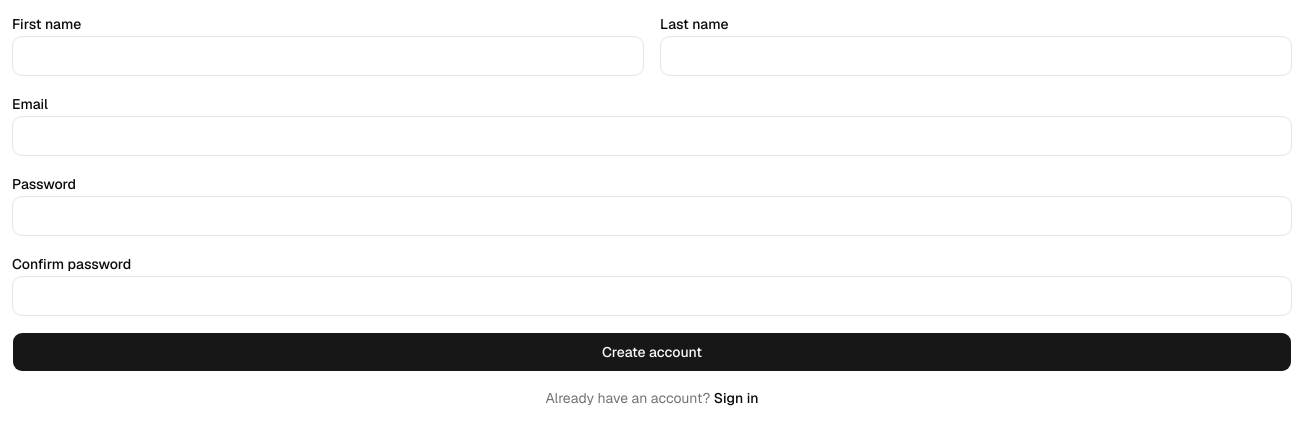
Test: RegisterForm › shows server-side field errors and keeps entered values
Type "Jan" into the field labelled "First name" at (328, 56), box [12,36,644,76]
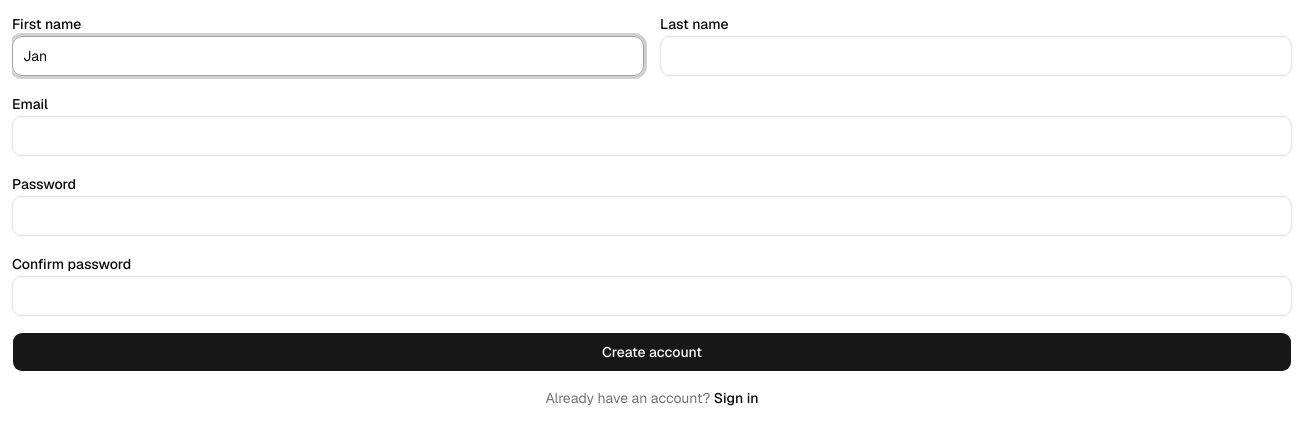
Type "Kowalski" into the field labelled "Last name" at (976, 56), box [660,36,1292,76]
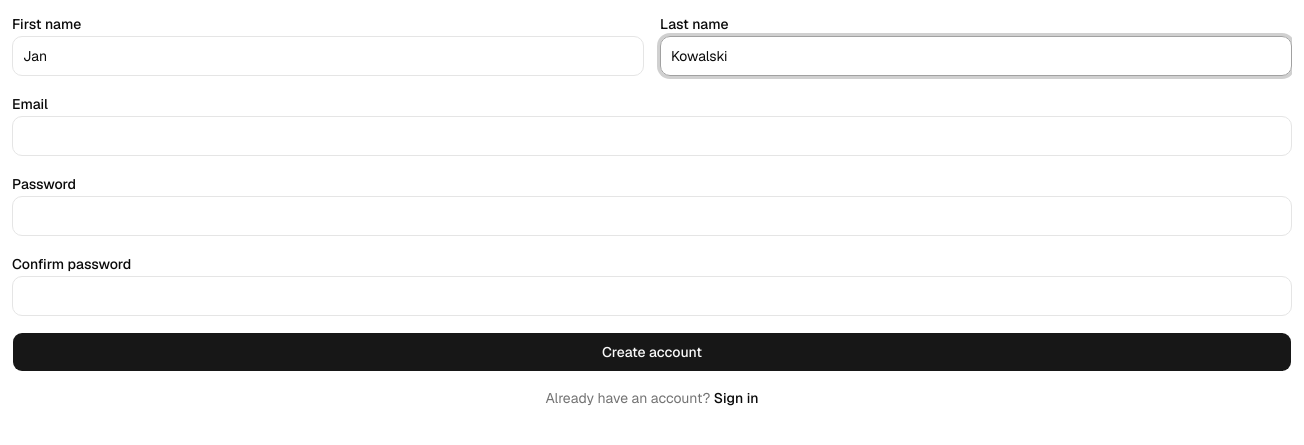
Type "jan@example.com" into the field labelled "Email" at (652, 136), box [12,116,1292,156]
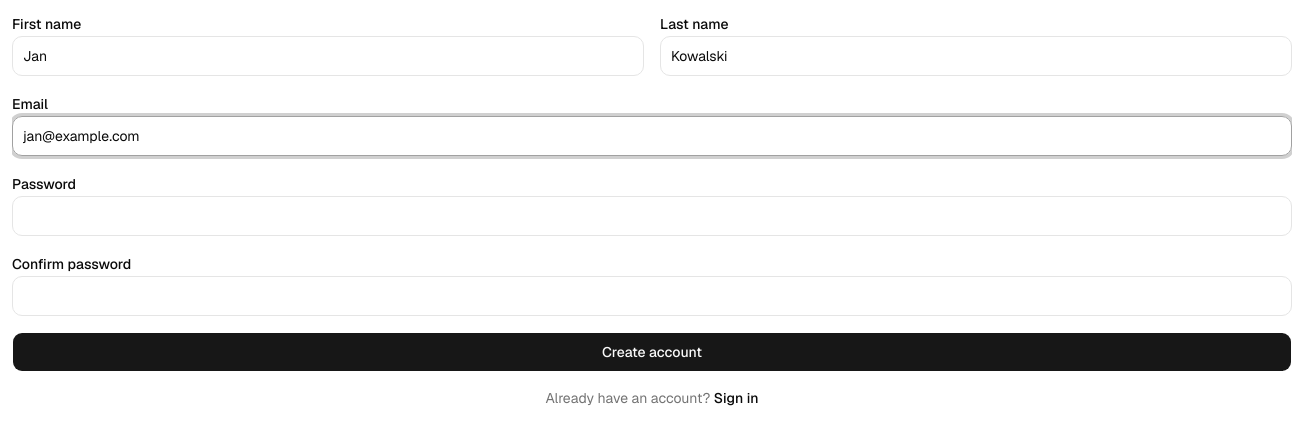
Type "secret123" into the password field labelled "Password" at (652, 216), box [12,196,1292,236]
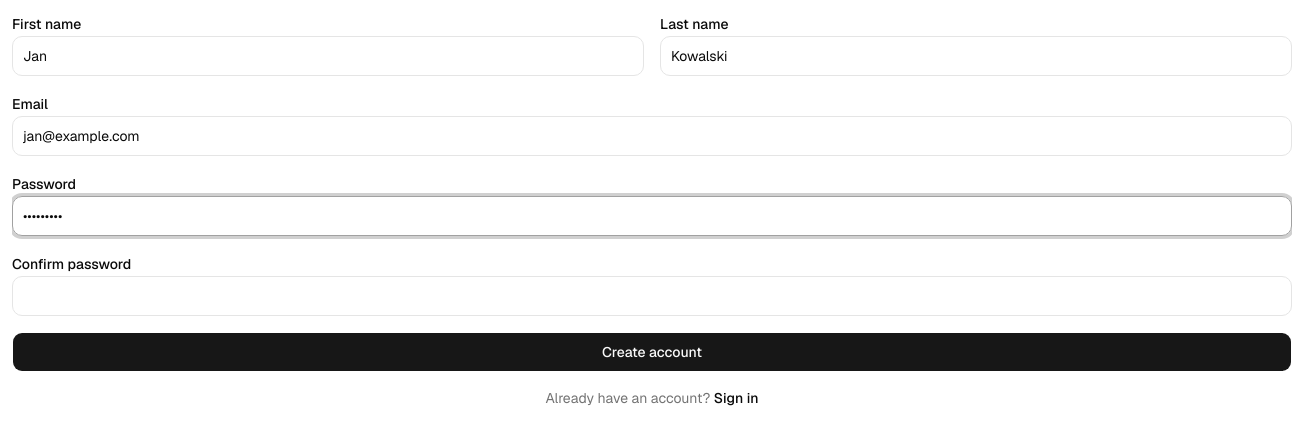
Type "secret123" into the password field labelled "Confirm password" at (652, 296), box [12,276,1292,316]
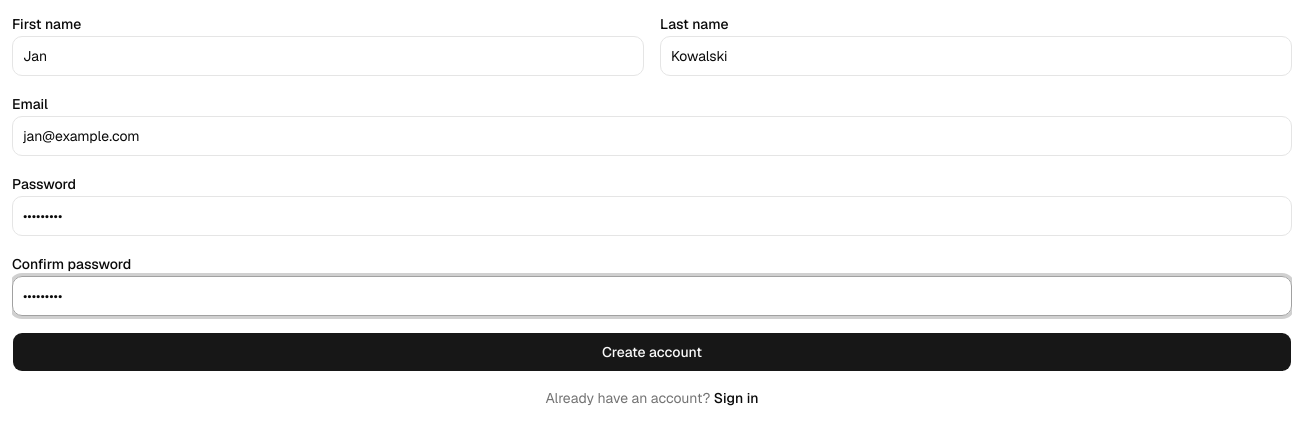
Click the button "Create account" at (652, 352), box [12,332,1292,372]
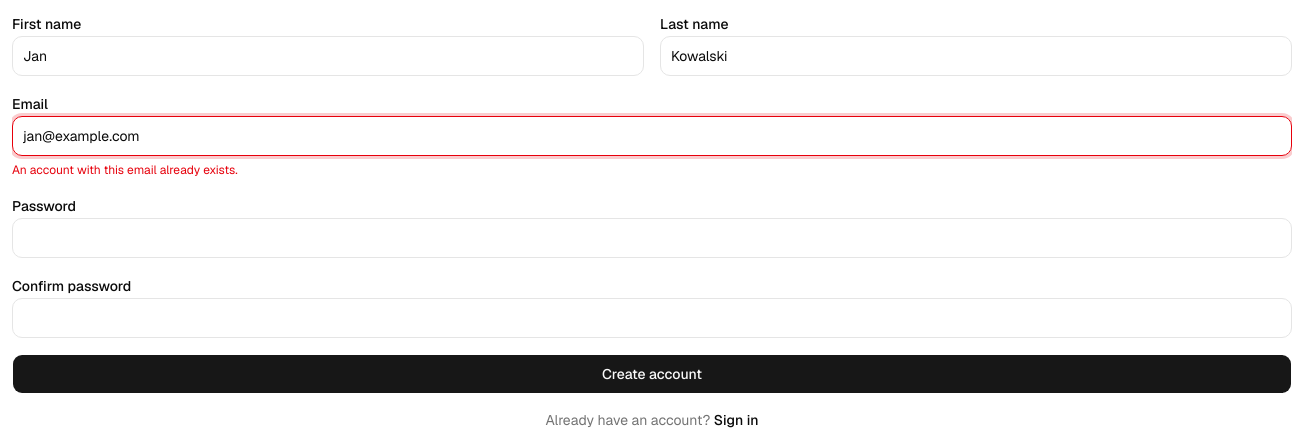
Expected: the field labelled "First name" holds "Jan", [12,36,644,76]
Expected: the list item "An account with this email already exists." is shown, [12,162,238,178]
